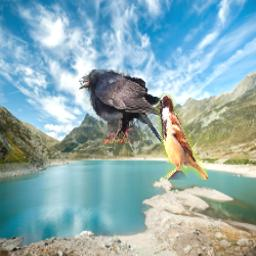Crow: (78, 71, 165, 144)
Sparrow: (155, 93, 208, 180)
